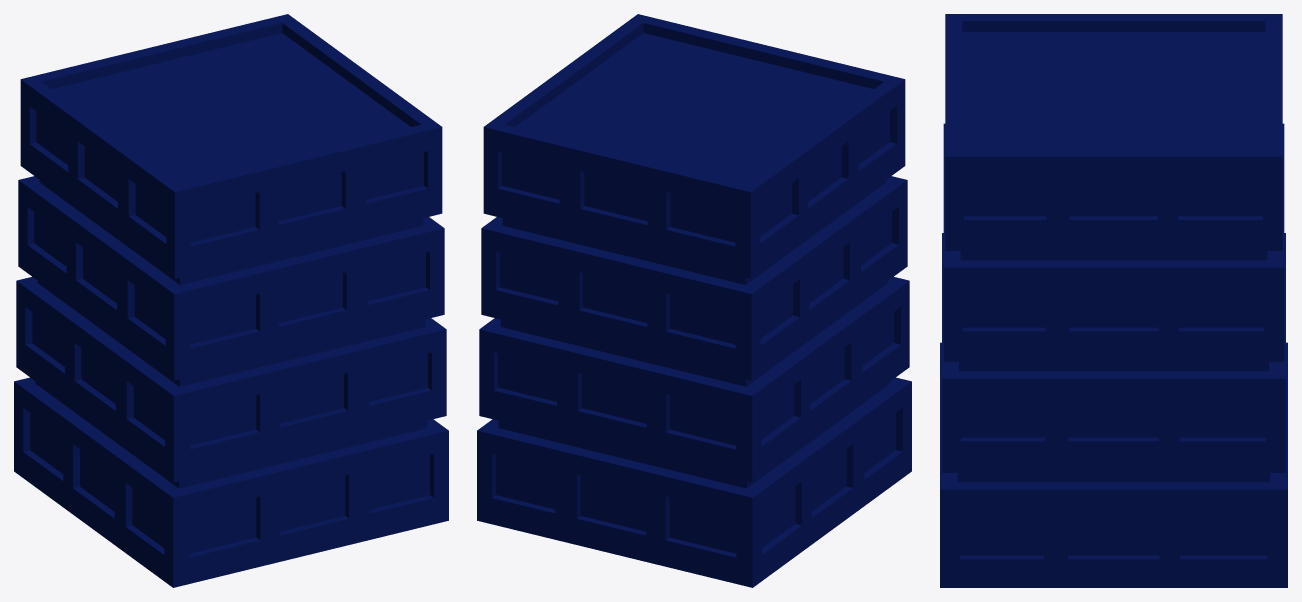
The picture shows the model from 3 angles, left to right: view 1: azimuth 30°, elevation 25°; view 2: azimuth 150°, elevation 25°; view 3: azimuth 270°, elevation 25°; orthographic projection. The views are drawn at different scales.
Parts seen in each view (by area): view 1: tier_tower; view 2: tier_tower; view 3: tier_tower.
Boxes of the visible parts, x1,y1,x2,y2 form: tier_tower: (14, 14, 448, 587); tier_tower: (477, 14, 911, 587); tier_tower: (940, 14, 1287, 587).
Bounding box in the file's own units: 22.02 × 30 × 22.02.
